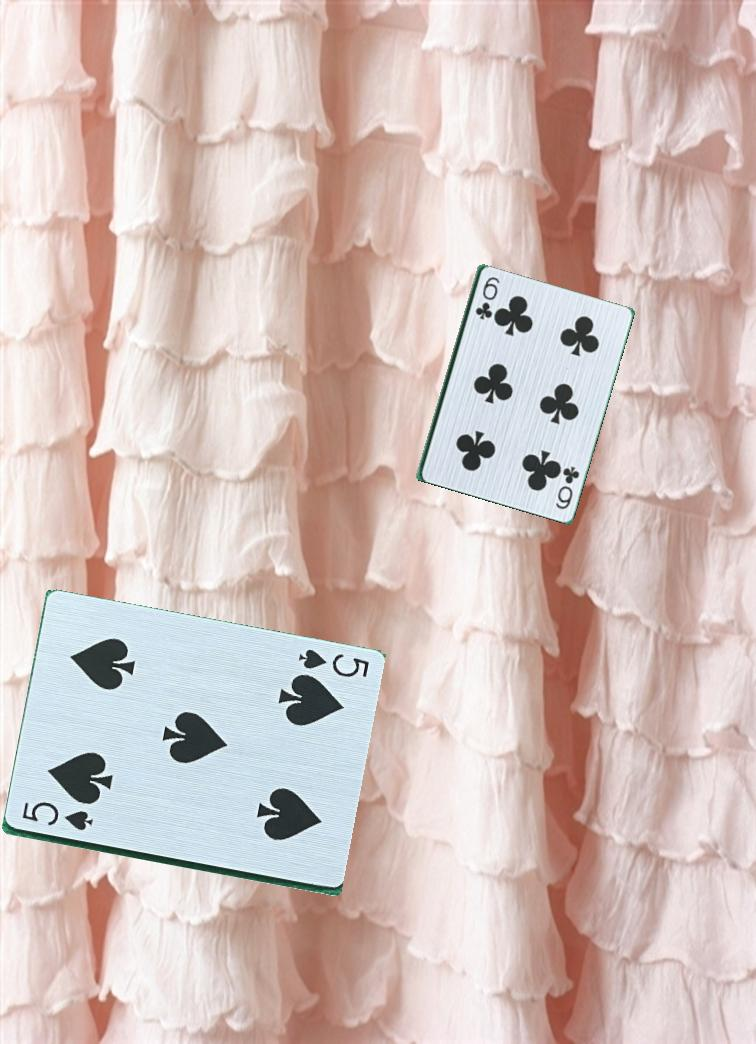5s: (288, 645, 373, 686), (9, 799, 95, 834)
6c: (548, 459, 582, 515), (472, 273, 500, 322)
